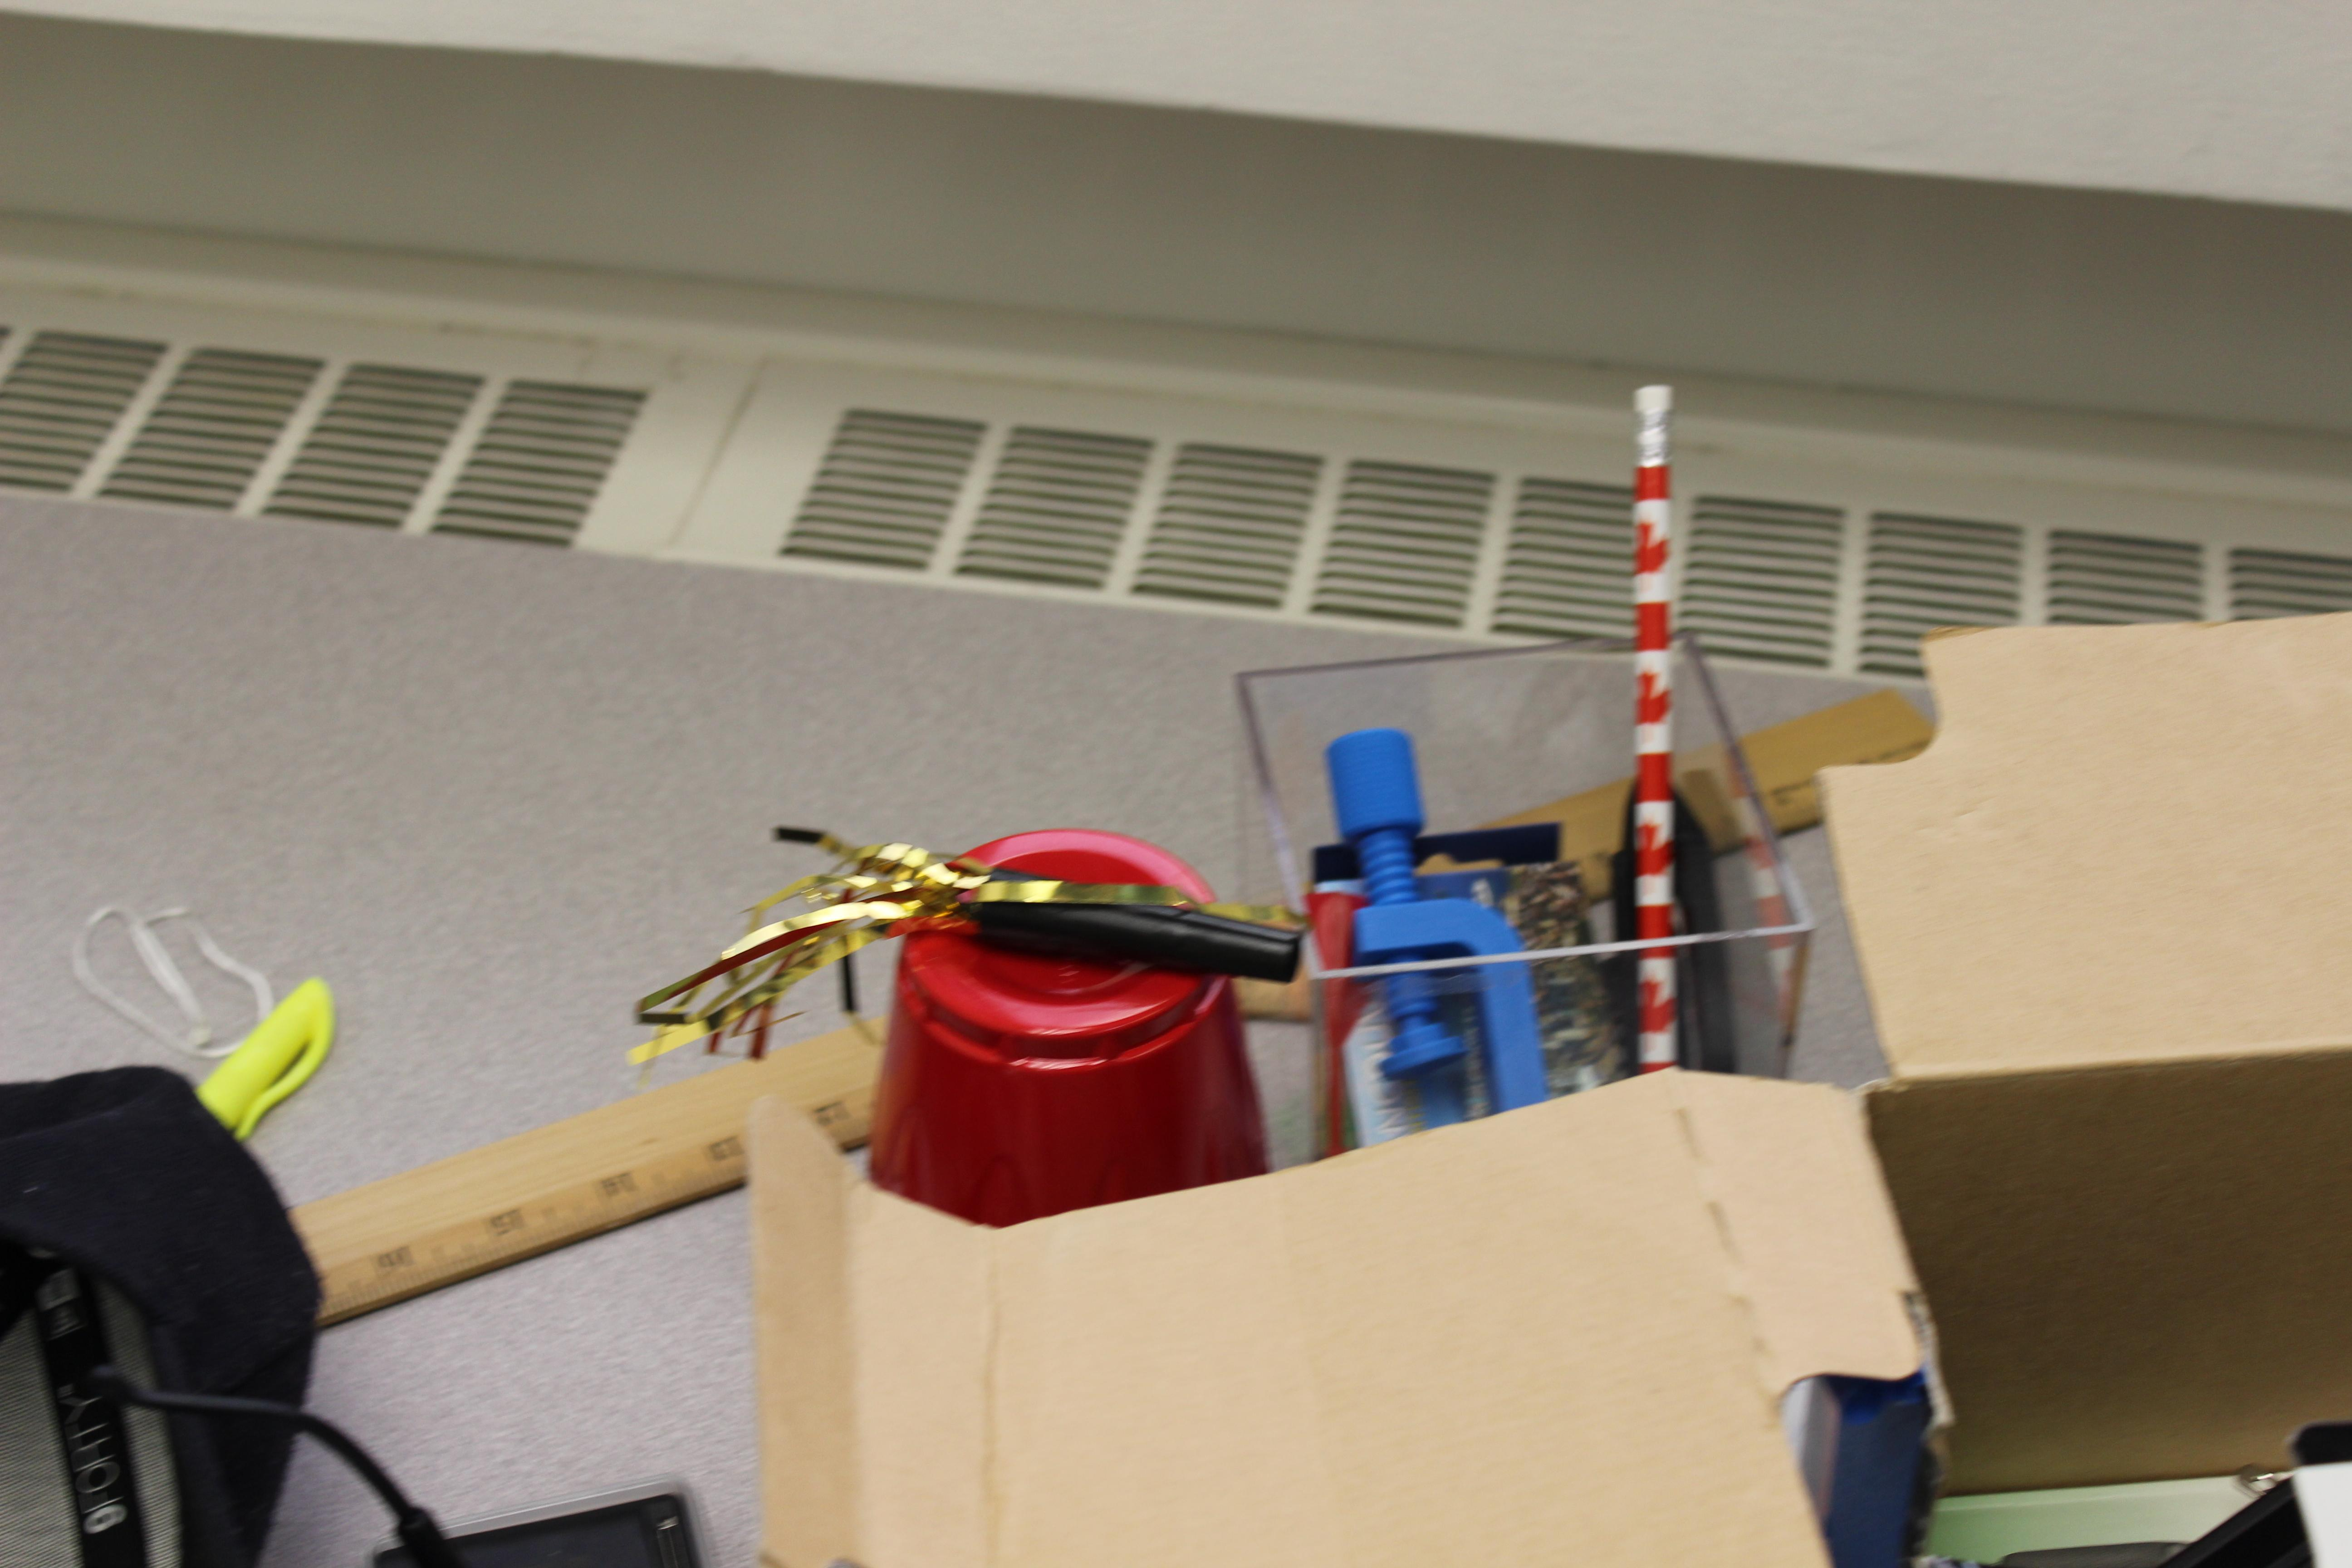partyFavor: (588, 759, 1342, 1120)
